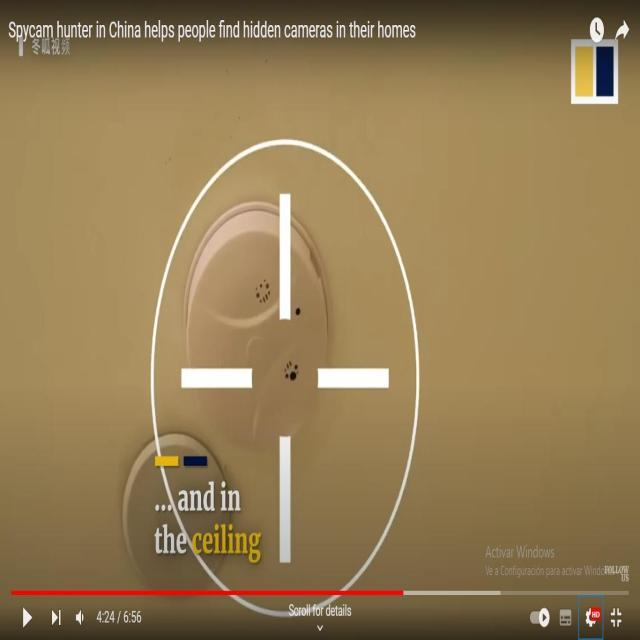hidden camera: (287, 357, 300, 392)
